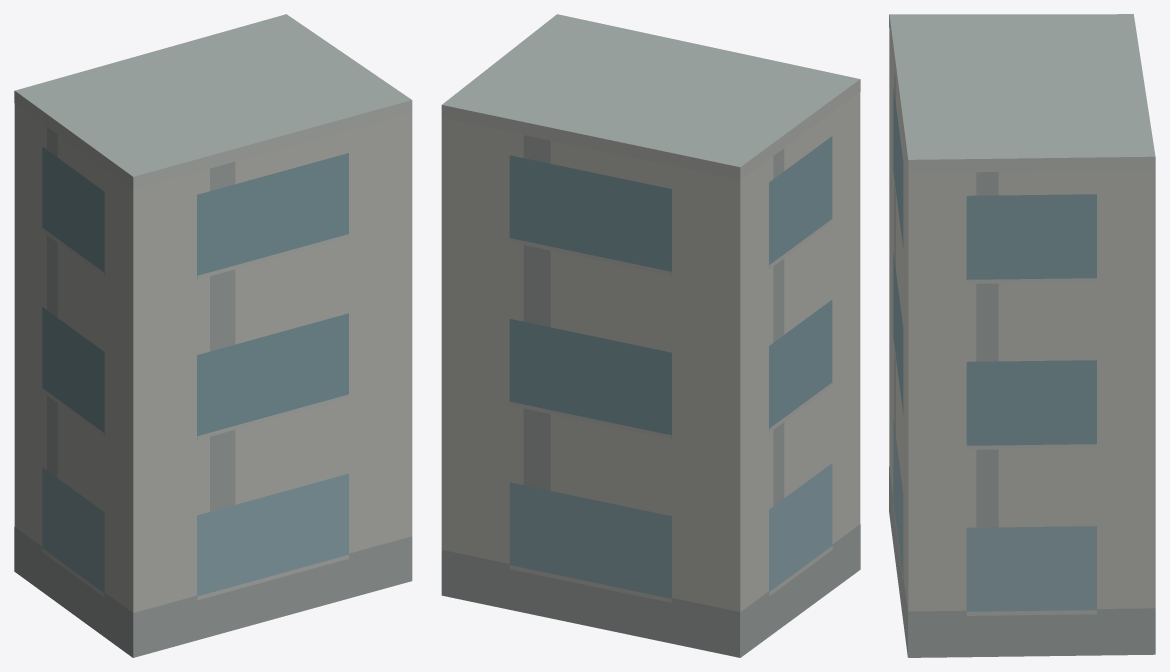
Rendered from survey-upis-32542895.glb.
The picture shows the model from 3 angles, left to right: view 1: azimuth 30°, elevation 25°; view 2: azimuth 150°, elevation 25°; view 3: azimuth 270°, elevation 25°; orthographic projection. The views are drawn at different scales.
Parts seen in each view (by area): view 1: survey-upis-32542895.tmp; view 2: survey-upis-32542895.tmp; view 3: survey-upis-32542895.tmp.
Boxes of the visible parts, x1,y1,x2,y2 form: survey-upis-32542895.tmp: (14,14,412,657); survey-upis-32542895.tmp: (441,14,860,657); survey-upis-32542895.tmp: (889,14,1155,657).
Bounding box in the file's own units: 5.76 × 9.15 × 4.44.
